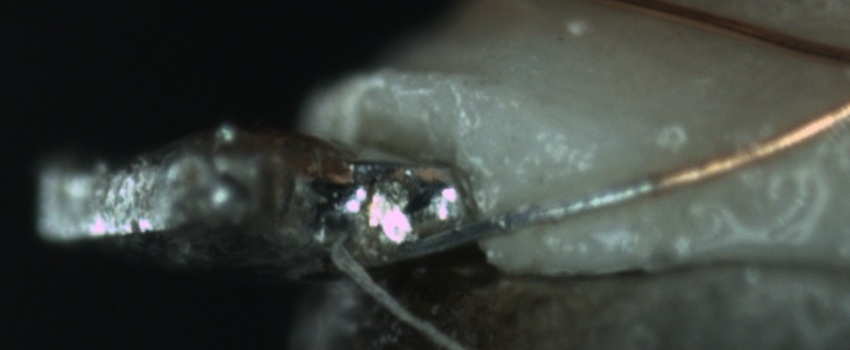TS: (392, 167, 660, 255)
